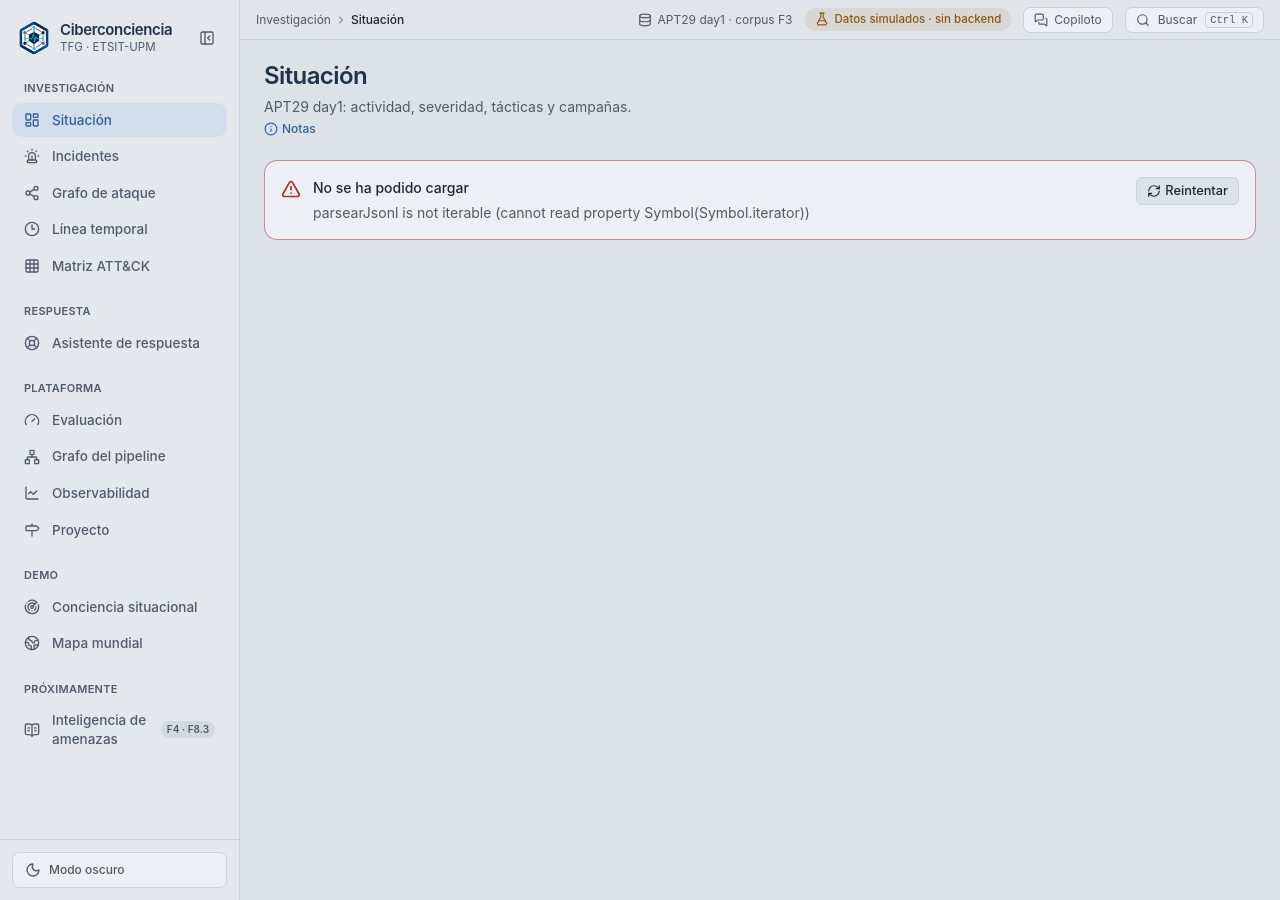
BotonTema en el shell › sigue visible con la barra lateral cerrada
The width and height of the screenshot is (1280, 900).
Click the button named "Cerrar el menú".
click(207, 38)  # box [191,22,223,54]
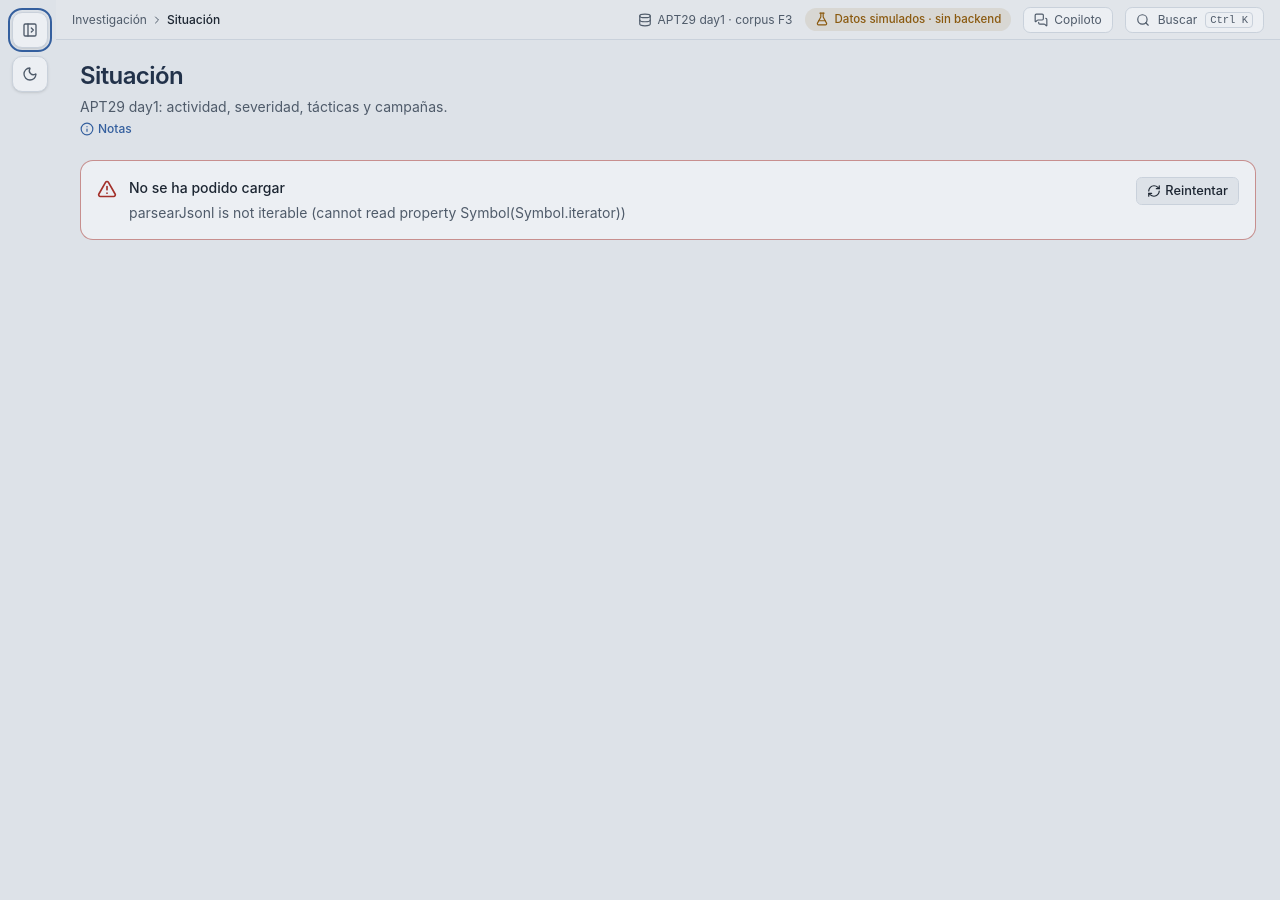
Expected: the button named "Cambiar a modo oscuro" is shown, [12,56,48,92]
Expected: the button named "Abrir el menú" is shown, [12,12,48,48]
